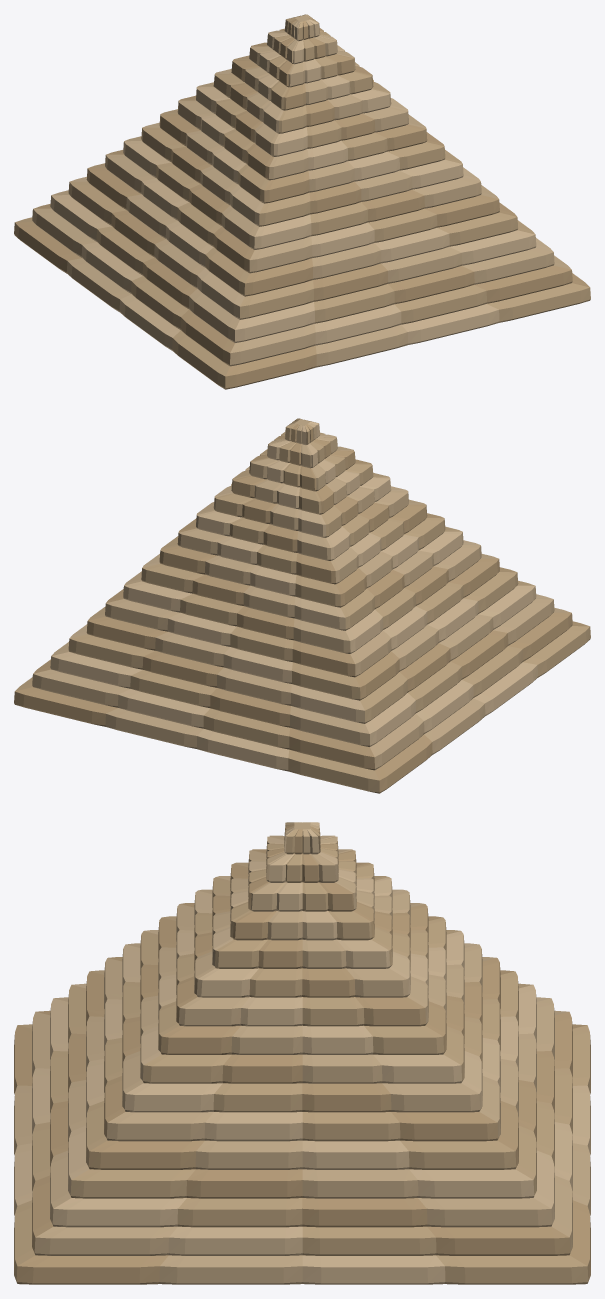
The model's file is NEW_RECOVERY_102_LOD0.fbx.
3 renders of one model, top to bottom at view 1: azimuth 30°, elevation 25°; view 2: azimuth 150°, elevation 25°; view 3: azimuth 270°, elevation 25°, orthographic. The views are drawn at different scales.
Visible parts, largest first — view 1: Pyramid solid stepped limestone; view 2: Pyramid solid stepped limestone; view 3: Pyramid solid stepped limestone.
Boxes of the visible parts, left/top/right/bottom form: Pyramid solid stepped limestone: left=14, top=14, right=590, bottom=389; Pyramid solid stepped limestone: left=14, top=418, right=590, bottom=793; Pyramid solid stepped limestone: left=14, top=822, right=590, bottom=1284.
Size of the model in its own units: 1000 by 1000 by 646.
